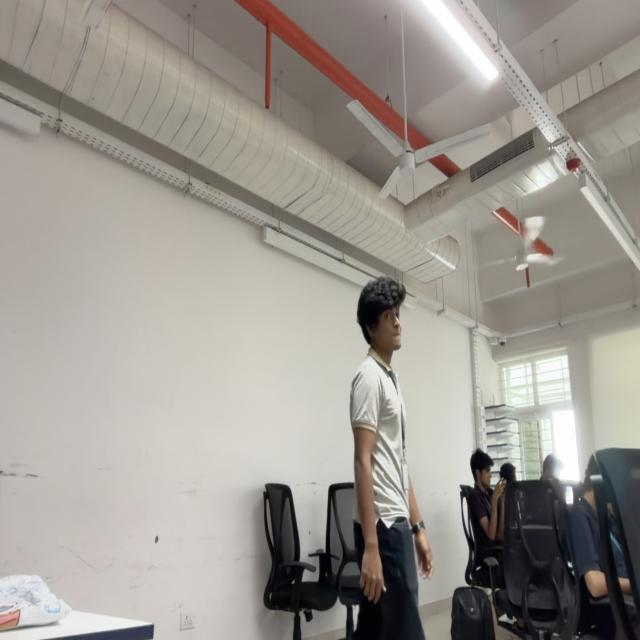kshitij: (356, 277, 405, 350)
